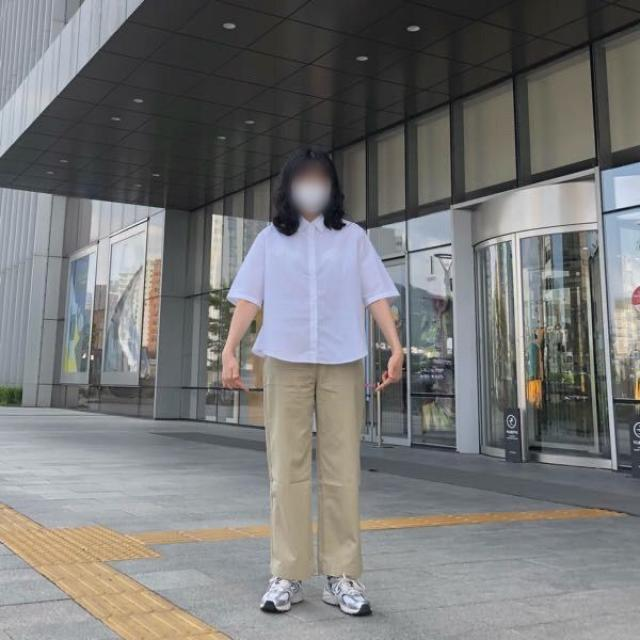cottonpants: (260, 349, 364, 580)
shirt: (232, 211, 406, 364)
